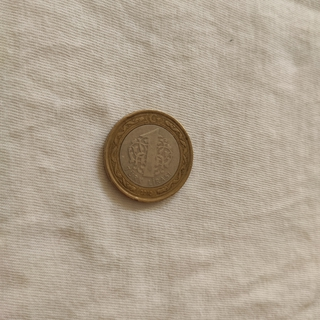1TL: (100, 107, 194, 204)
